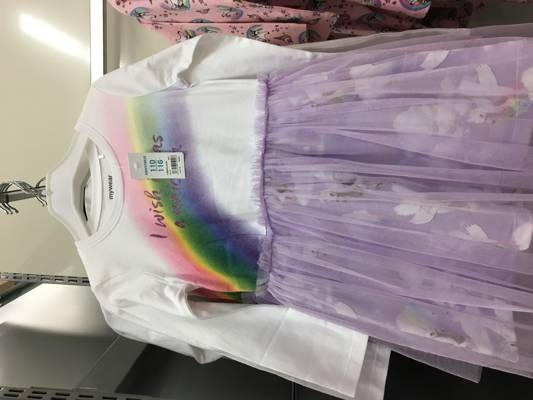Dress: (4, 32, 533, 380)
